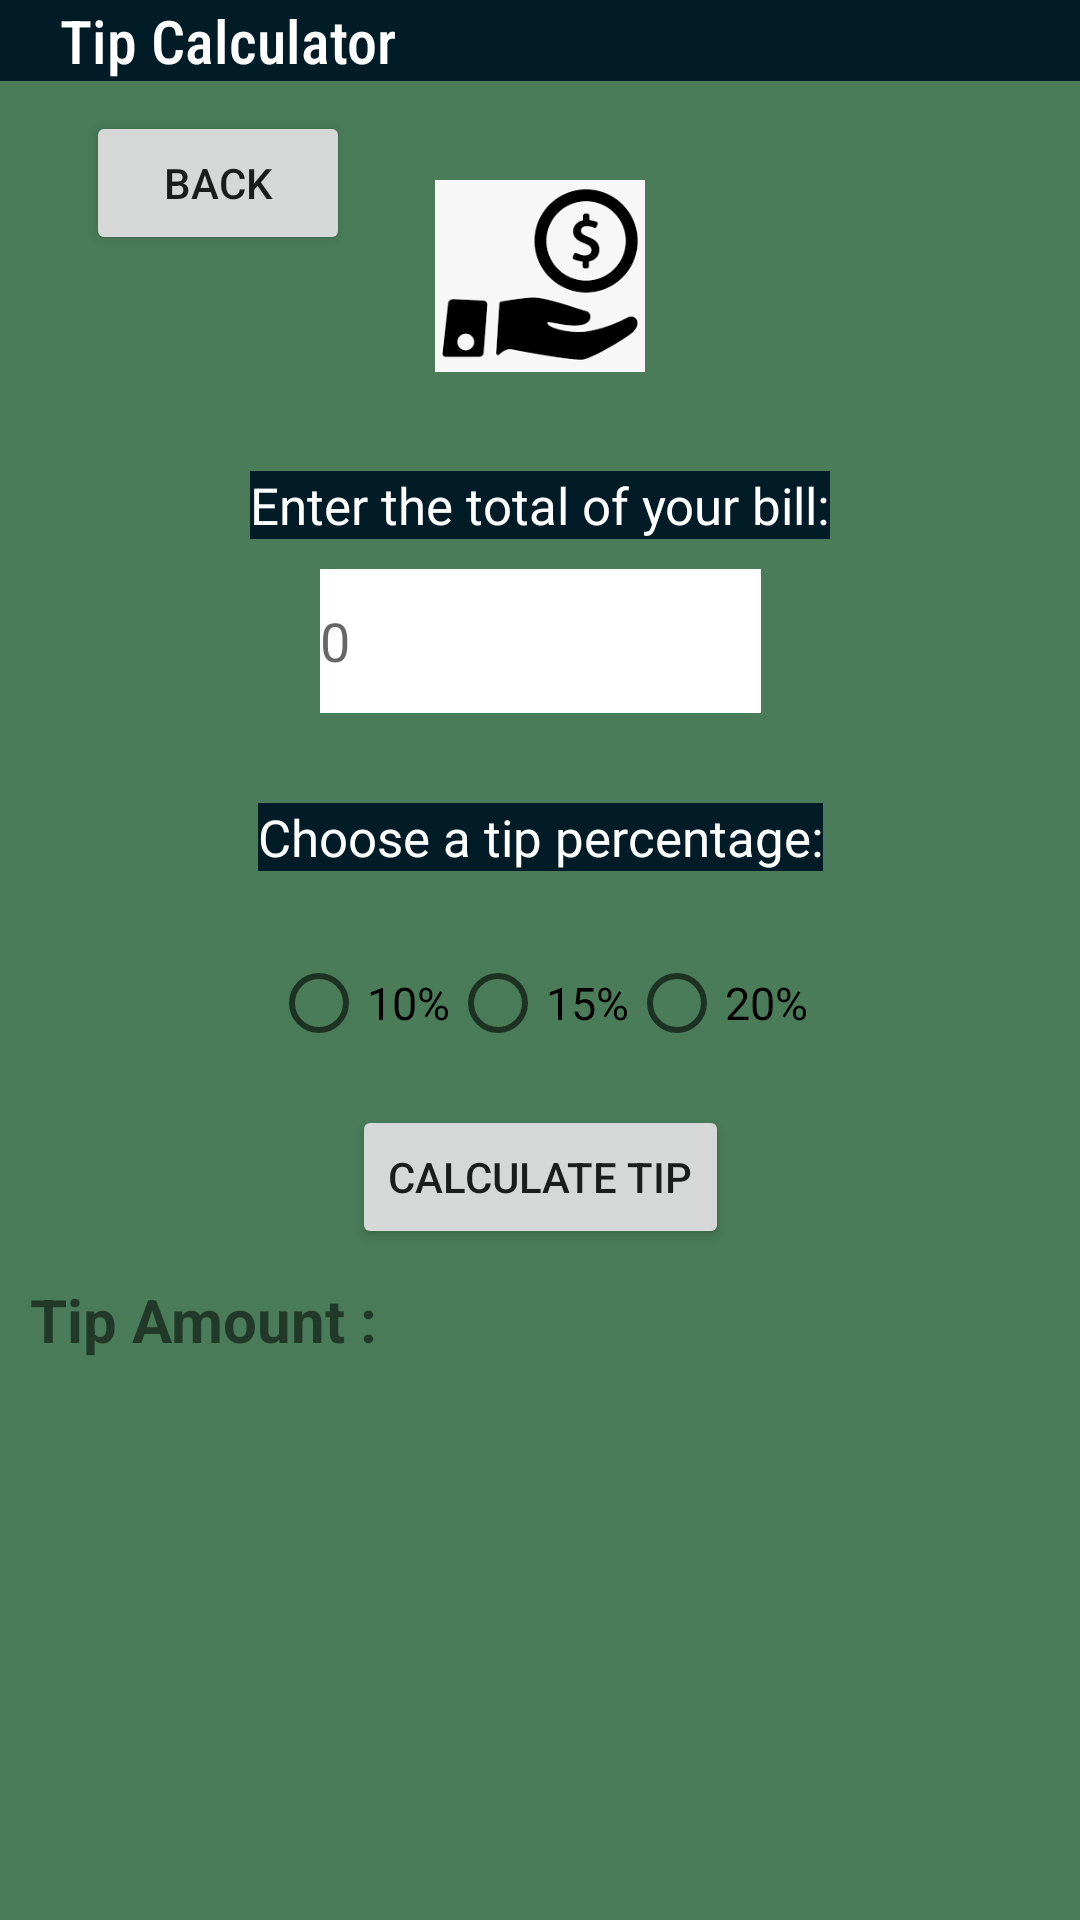

Named icons in this screenshot (1080px x 1920px) and their centers, (x,y):
Image of Money: (540,276)
